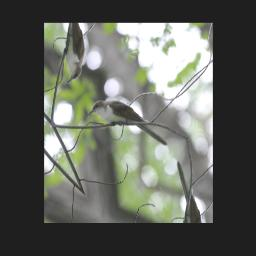Cuckoo: (85, 72, 170, 183)
